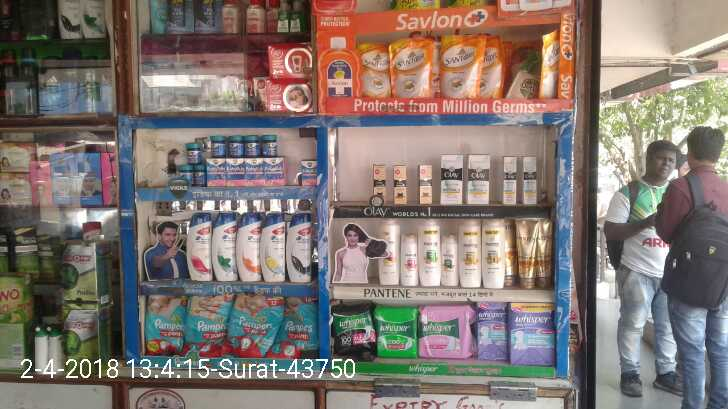vicks: (265, 158, 285, 186), (247, 159, 265, 186), (226, 159, 245, 183), (208, 159, 223, 184), (257, 135, 274, 157), (211, 135, 227, 158), (177, 164, 194, 185), (227, 135, 242, 158), (243, 135, 257, 157), (188, 139, 201, 161), (194, 164, 206, 185)
